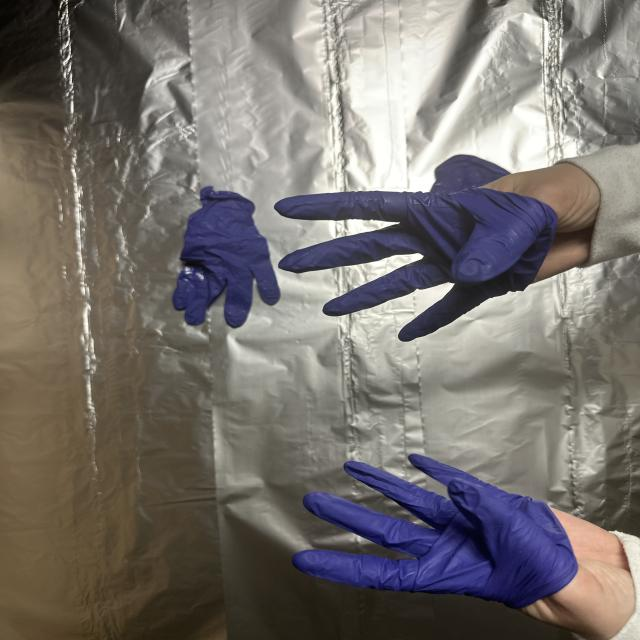glove_partial: (290, 448, 640, 640), (272, 161, 598, 344)
